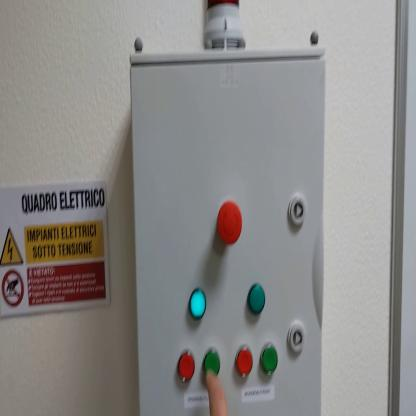hand: (207, 369, 229, 415)
left green button: (205, 351, 223, 378)
left red button: (178, 353, 196, 383)
right green button: (262, 344, 279, 374)
right red button: (238, 347, 253, 378)
